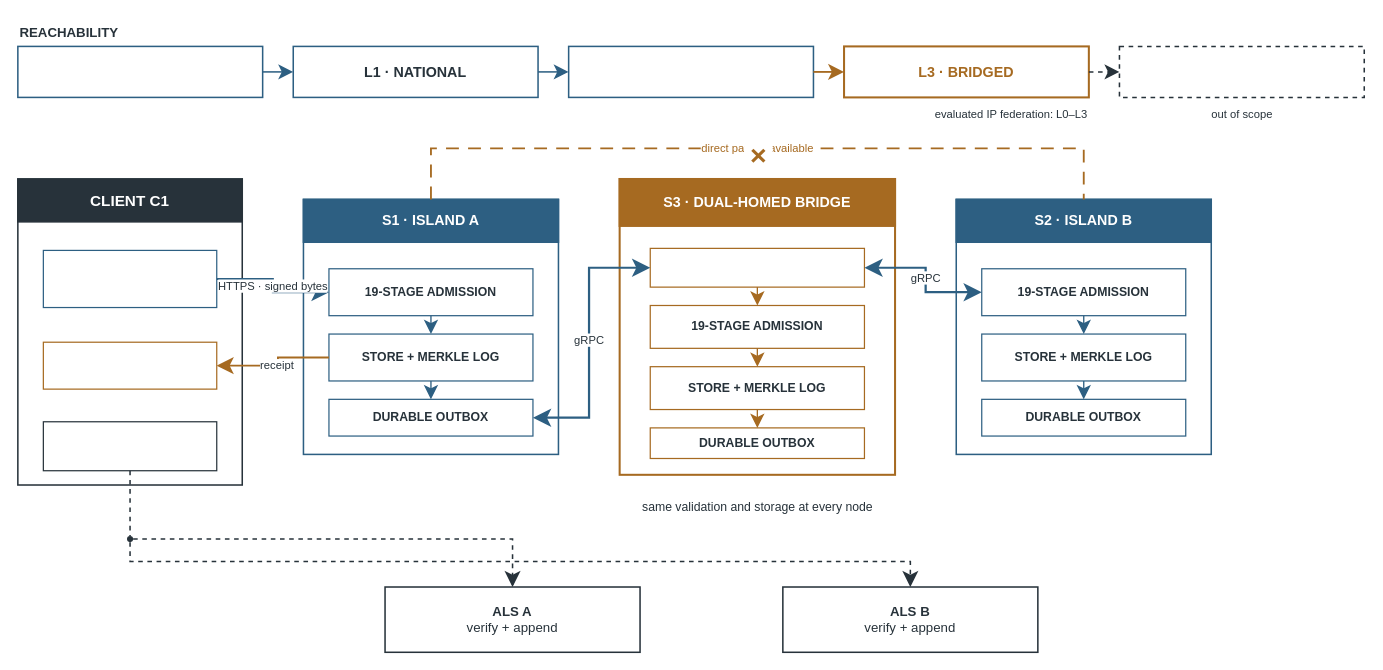
This 1383x670 diagram has some shape labels left out. Each missing label, with the box of its shape:
AUDIT CERTIFICATE built by client: (42, 421, 217, 471)
AUDIT CERTIFICATES · after acceptance: (155, 515, 410, 536)
L0 · GLOBAL: (17, 45, 263, 98)
L2 · ISP ISLAND: (567, 45, 814, 98)
L4 · ISOLATED: (1118, 45, 1365, 98)
SIGN ON DEVICE canonical bytes: (42, 249, 217, 308)
SIGNED RECEIPT: (42, 341, 217, 389)
UPLINK A + UPLINK B: (649, 247, 865, 287)
